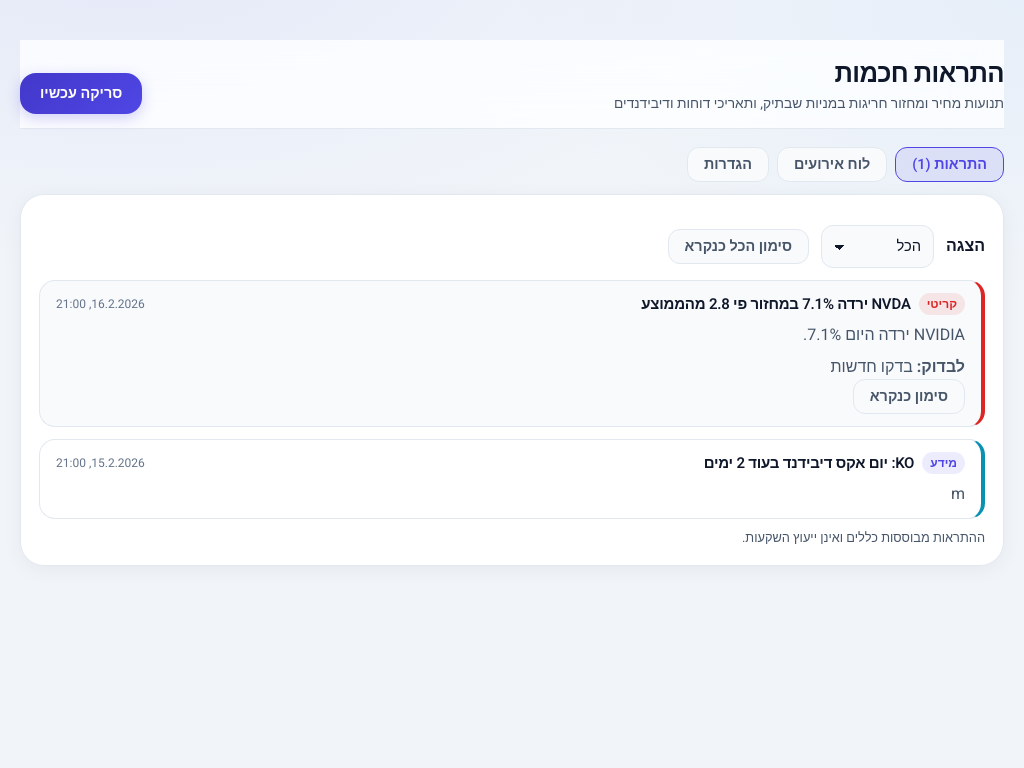
Scenario: calendar tab shows projected events with the expected payout
The width and height of the screenshot is (1024, 768).
Click the tab "לוח אירועים".
click(832, 164)  # box [777, 147, 887, 182]
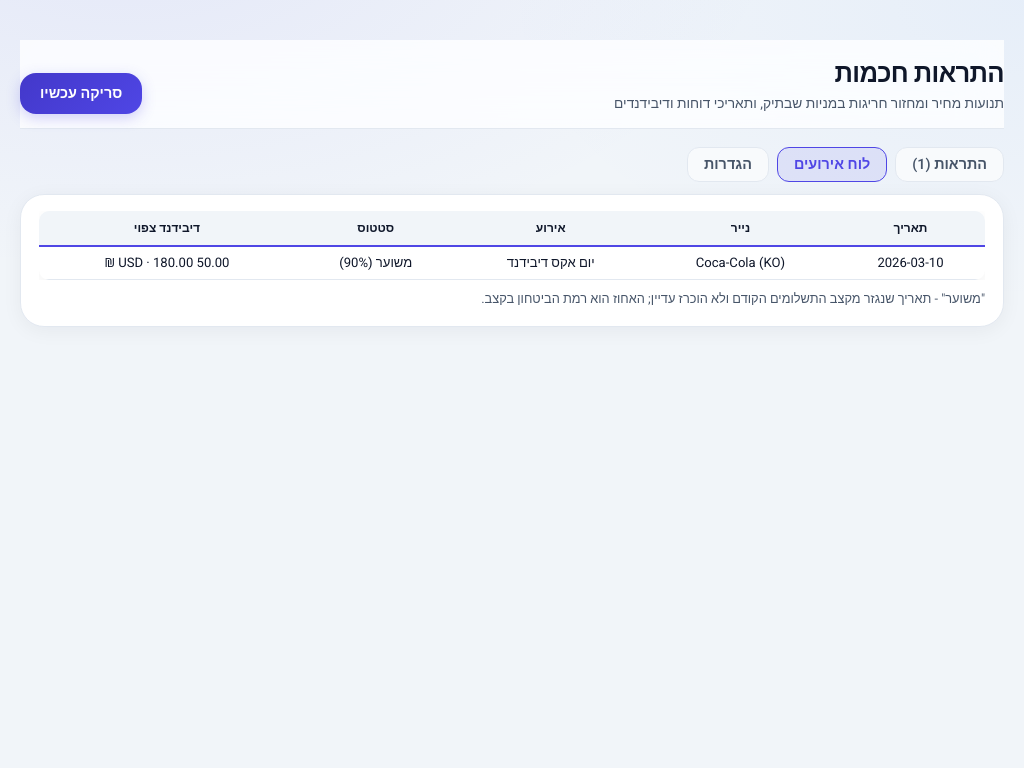
Result: the text "Coca-Cola (KO)" is shown at [645, 246, 836, 280]
Result: the text "משוער (90%)" is shown at [295, 246, 457, 280]
Result: the text "50.00 USD · 180.00 ₪" is shown at [39, 246, 295, 280]
